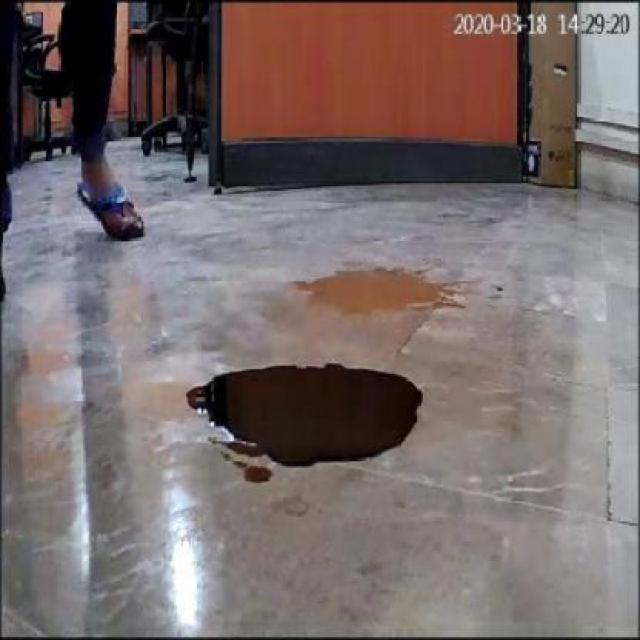spillage: (180, 362, 425, 473), (227, 457, 277, 492), (217, 442, 262, 460)
